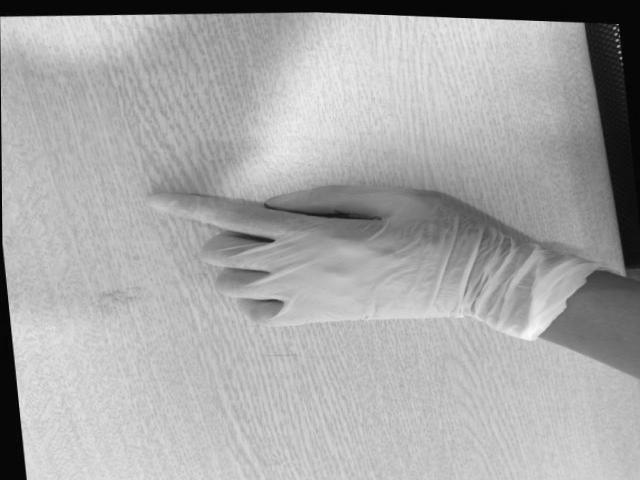gloved: (140, 186, 478, 326)
